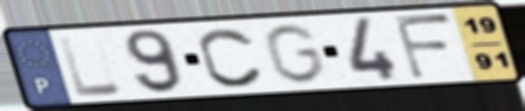4: (344, 15, 401, 84)
9: (122, 27, 186, 95)
C: (196, 25, 268, 90)
F: (390, 12, 458, 82)
G: (260, 22, 329, 86)
L: (54, 33, 127, 99)
